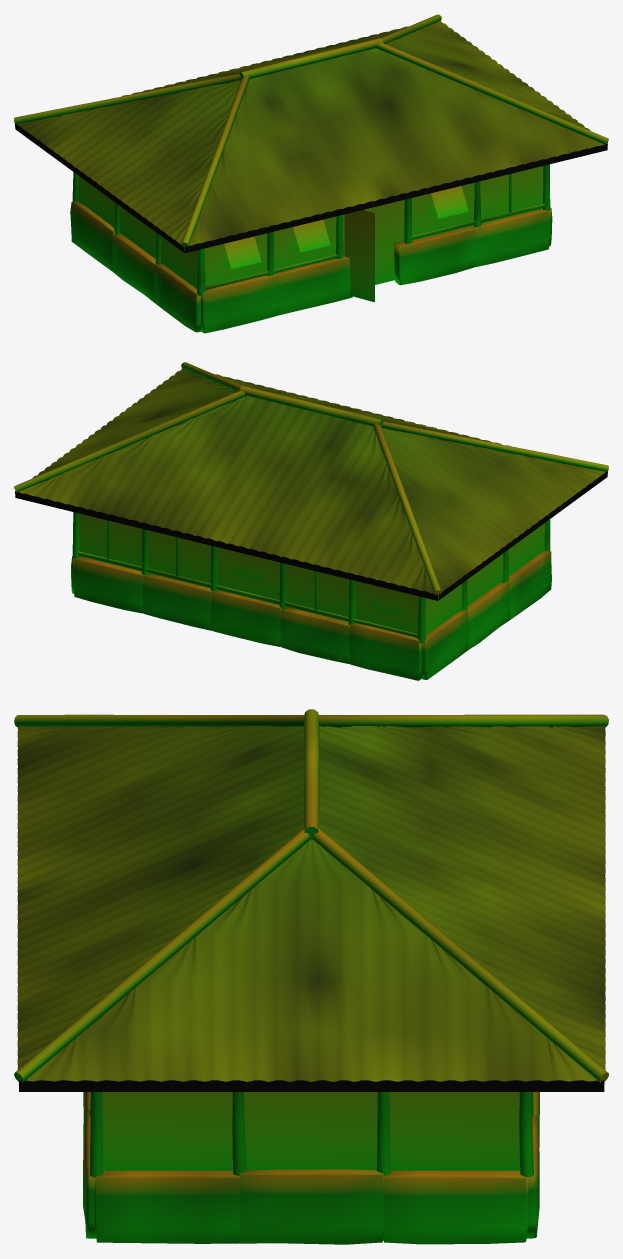
File: house_lane_b.glb
The picture shows the model from 3 angles, top to bottom: view 1: azimuth 30°, elevation 25°; view 2: azimuth 150°, elevation 25°; view 3: azimuth 270°, elevation 25°; orthographic projection. The views are drawn at different scales.
Parts seen in each view (by area): view 1: house_lane_b; view 2: house_lane_b; view 3: house_lane_b.
Boxes of the visible parts, x1,y1,x2,y2 form: house_lane_b: (14, 14, 608, 333); house_lane_b: (14, 362, 608, 680); house_lane_b: (14, 709, 608, 1244).
Size of what is drawn, in the model's own units: 9.91 by 4.21 by 6.91.
